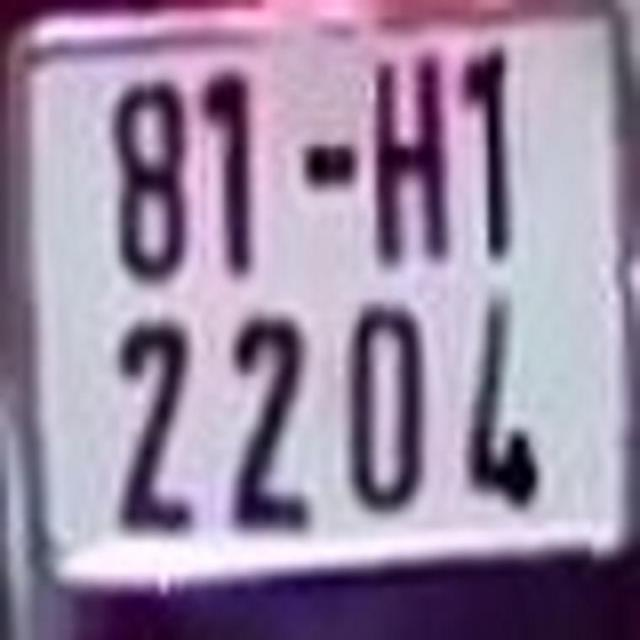0: (348, 286, 424, 511)
1: (458, 44, 530, 260), (197, 60, 267, 276)
2: (230, 306, 312, 532), (117, 314, 198, 532)
4: (462, 282, 544, 527)
8: (111, 69, 196, 282)
H: (368, 49, 453, 265)
